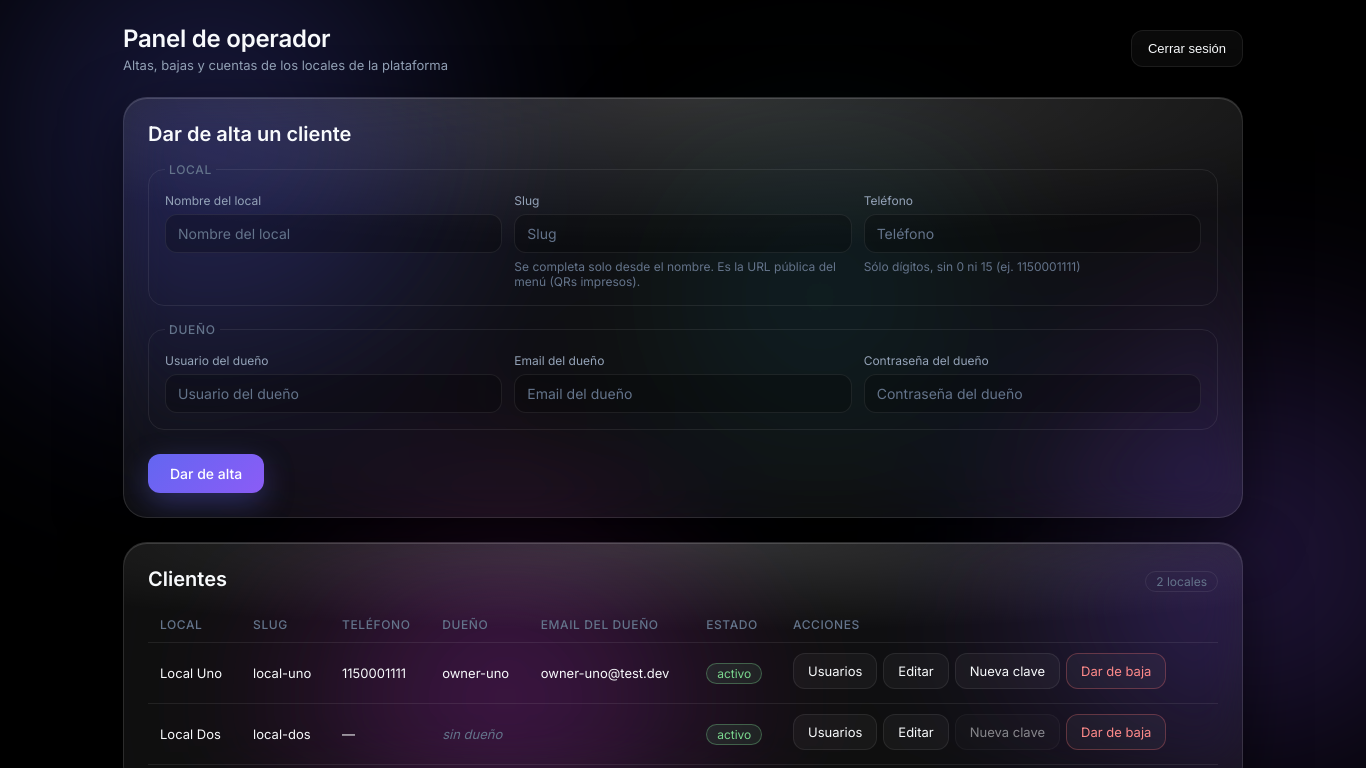
Test: platform operator view › shows the backend legible error inline when a row action fails
Expected: the text "Local Uno" is shown, [148,642,241,704]
Click the button "Nueva clave" in the row of "Local Uno" at (1007, 671), box [955,653,1060,689]
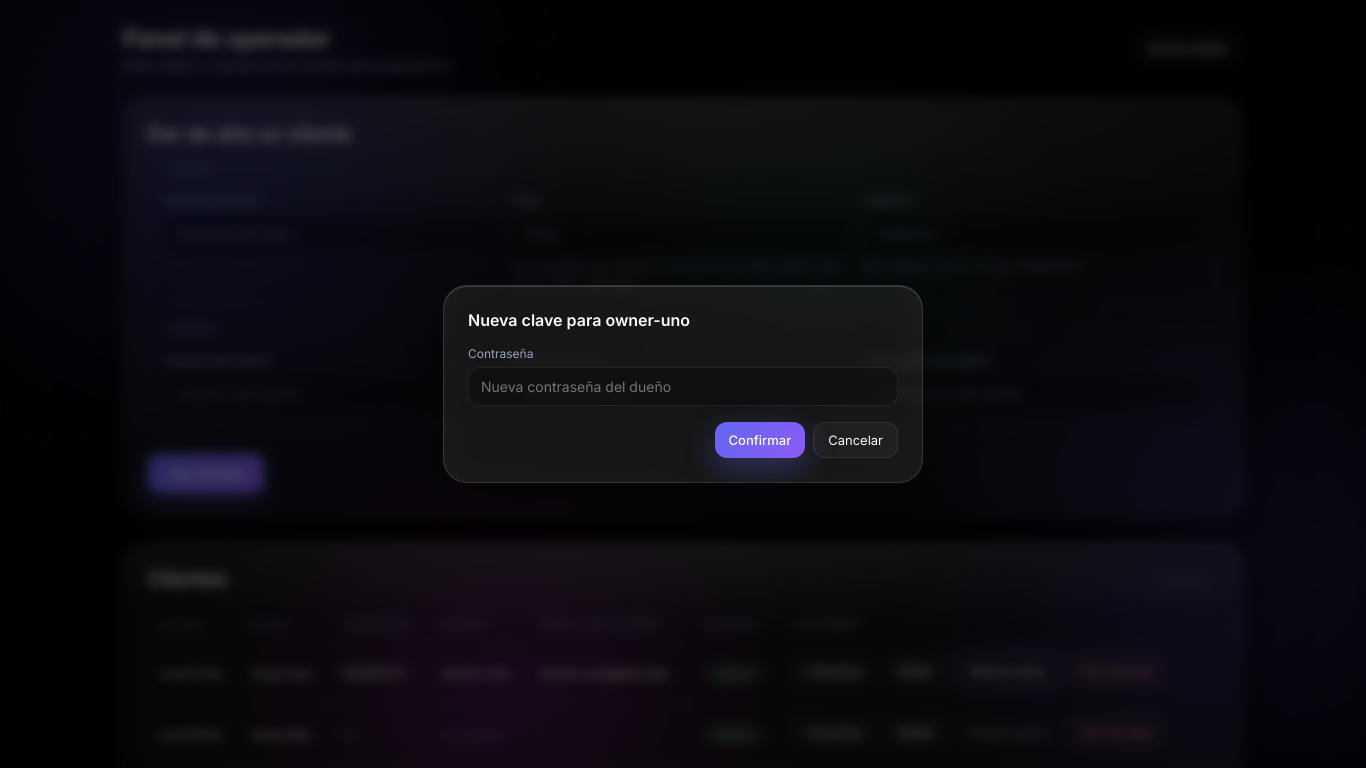
Type "corta" into the password field with placeholder "Nueva contraseña del dueño" at (683, 386), box [468,367,898,406]
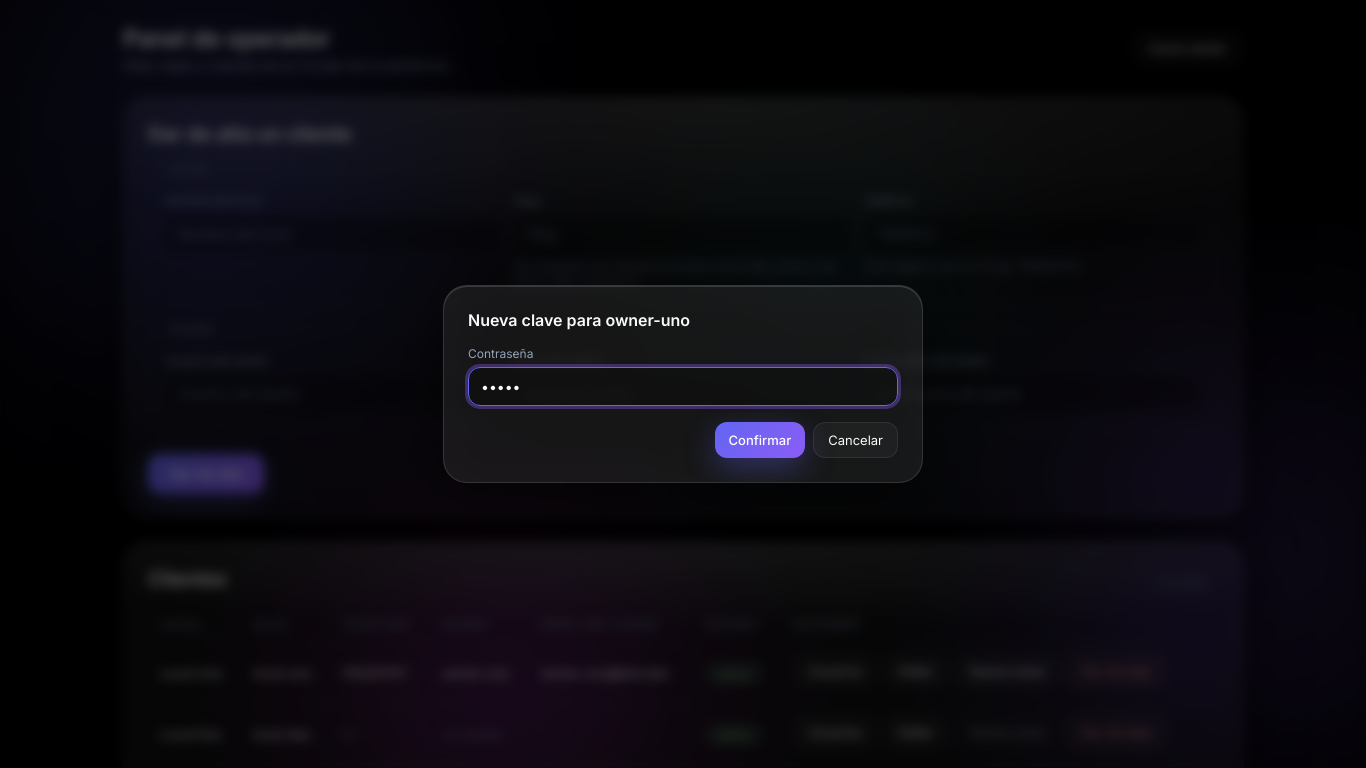
Click the button "Confirmar" at (760, 440), box [715,422,805,458]
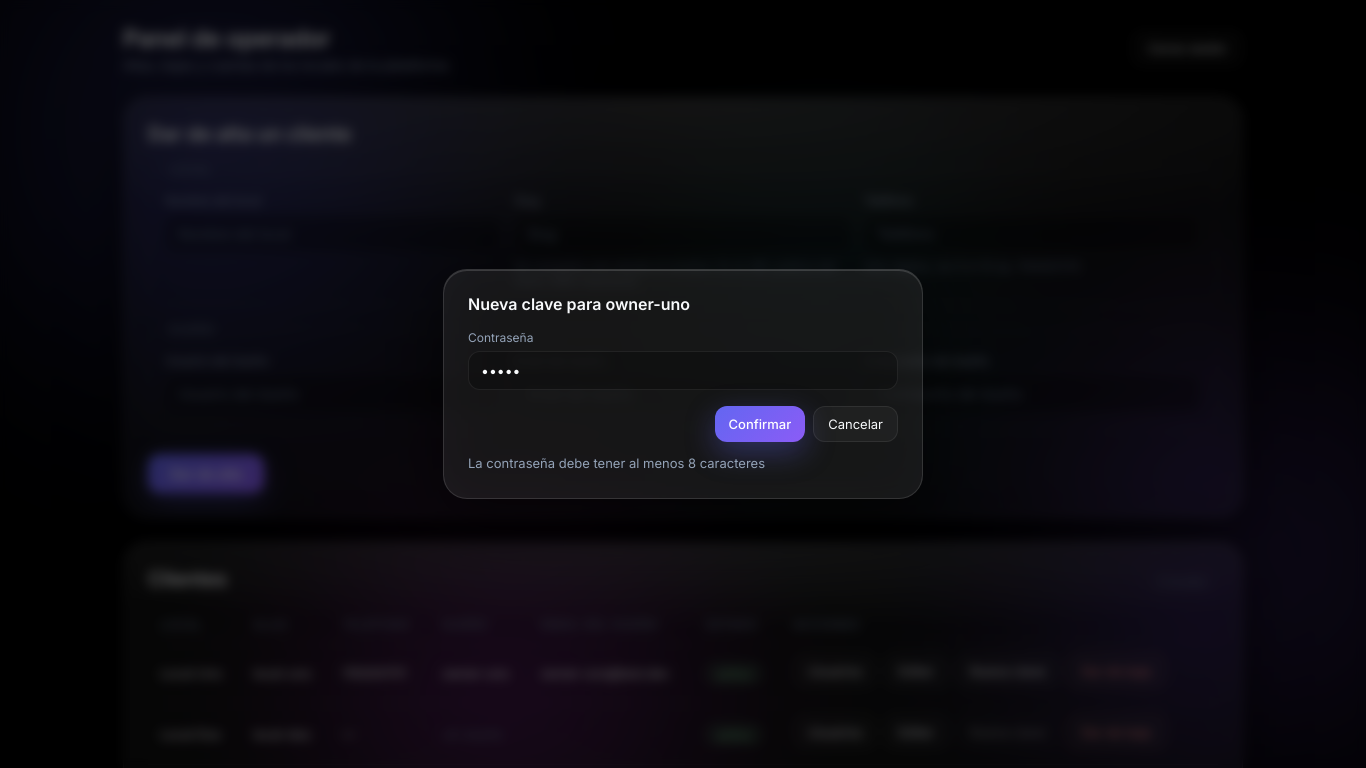
Now the message reads "La contraseña debe tener al menos 8 caracteres", box [468,455,765,471]
